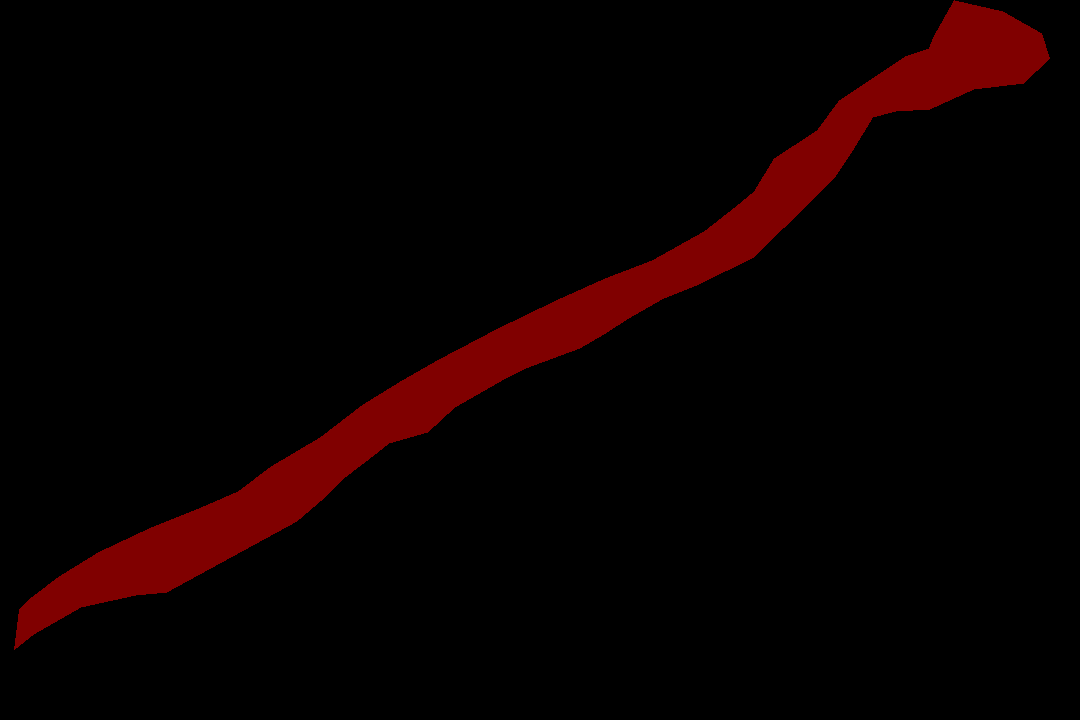fire: (14, 0, 1049, 649)
